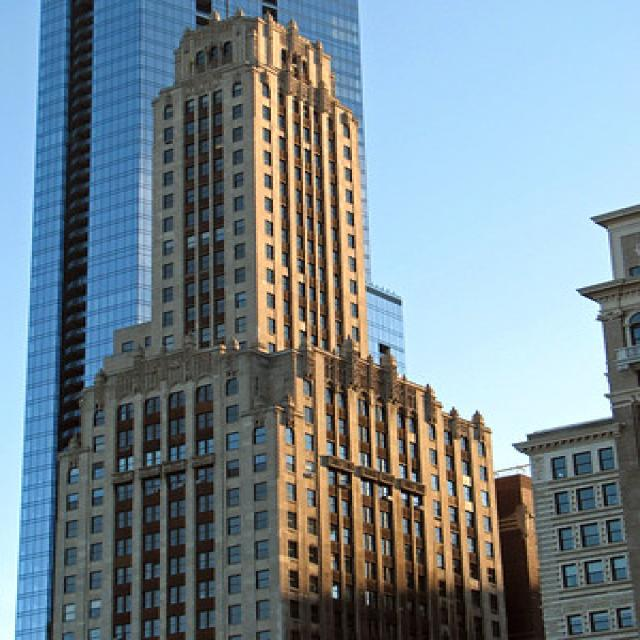building: (47, 8, 510, 640)
